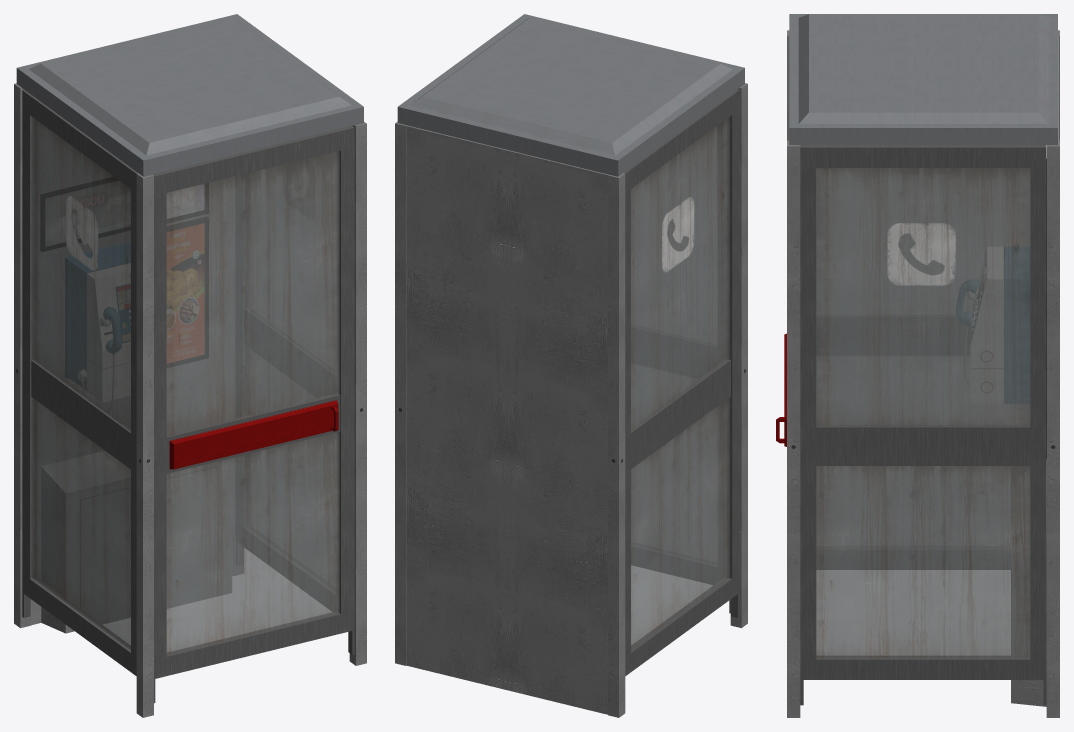
The model's file is phone.gltf.
3 renders of one model, left to right at view 1: azimuth 30°, elevation 25°; view 2: azimuth 150°, elevation 25°; view 3: azimuth 270°, elevation 25°, orthographic. The views are drawn at different scales.
Visible parts, largest first — view 1: Object_3, Object_4, Object_5; view 2: Object_4, Object_3; view 3: Object_3, Object_4, Object_5.
Boxes of the visible parts, box(x1,y1,x2,y2) form: Object_3: box(16, 14, 363, 655); Object_4: box(14, 83, 366, 717); Object_5: box(65, 242, 130, 411); Object_4: box(395, 83, 747, 717); Object_3: box(397, 14, 744, 649); Object_3: box(789, 14, 1057, 658); Object_4: box(776, 30, 1059, 717); Object_5: box(956, 247, 1029, 402).
Bounding box in the file's own units: 3.65 × 8.78 × 3.78.
Materials: 3 (3 with a texture image).
